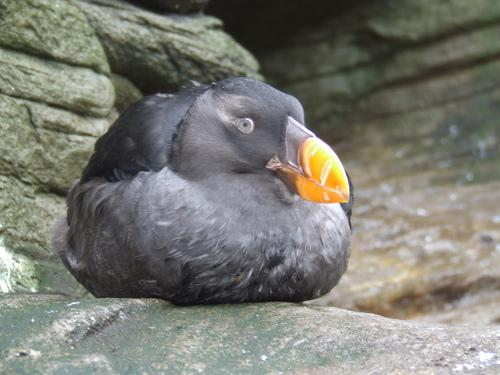008.Rhinoceros_Auklet: (51, 78, 355, 305)
